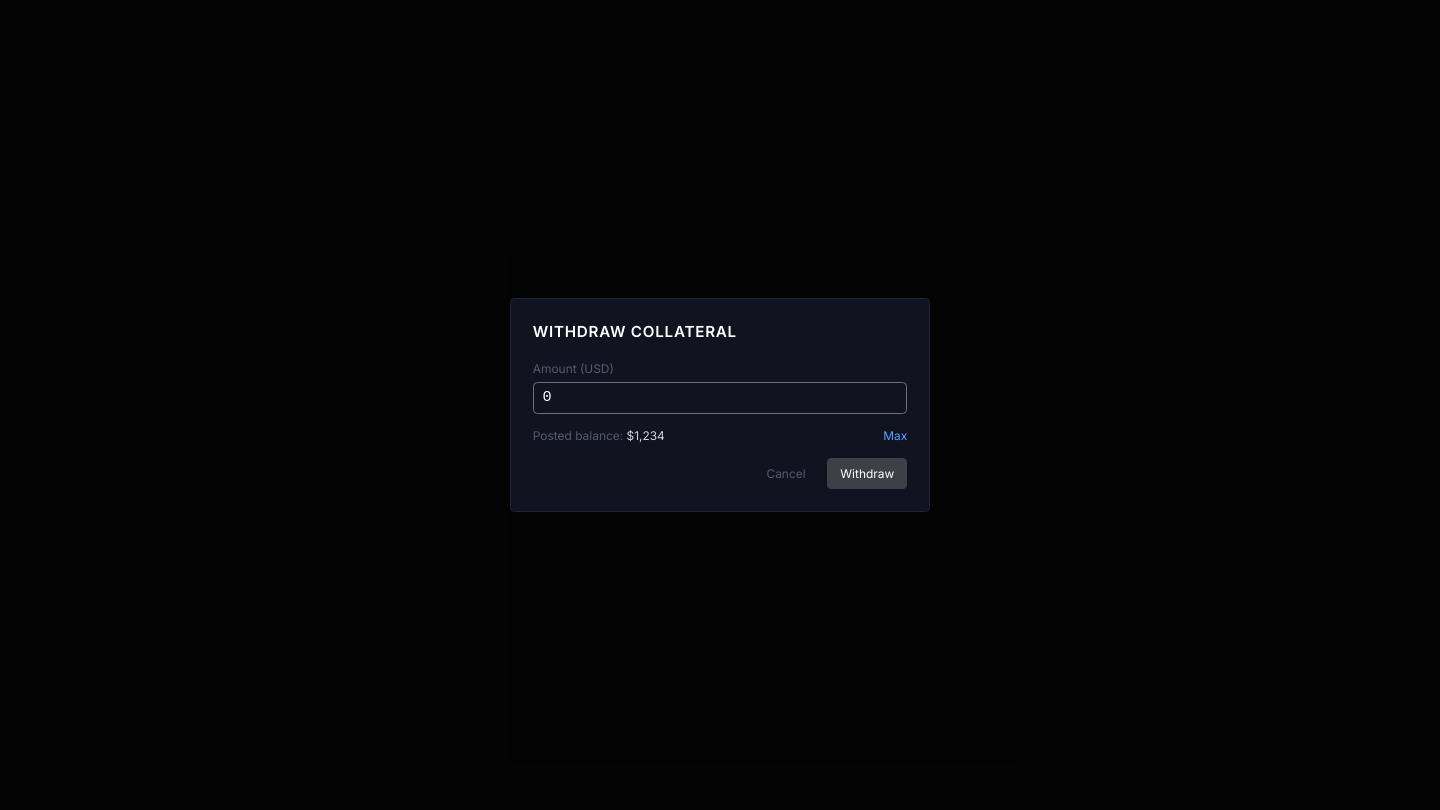
Test: CsaAmountModal — submit + validation › Max button in withdraw mode populates the amount input
The width and height of the screenshot is (1440, 810).
Click the button "Max" at coordinates (895, 436), box [883,427,907,445]
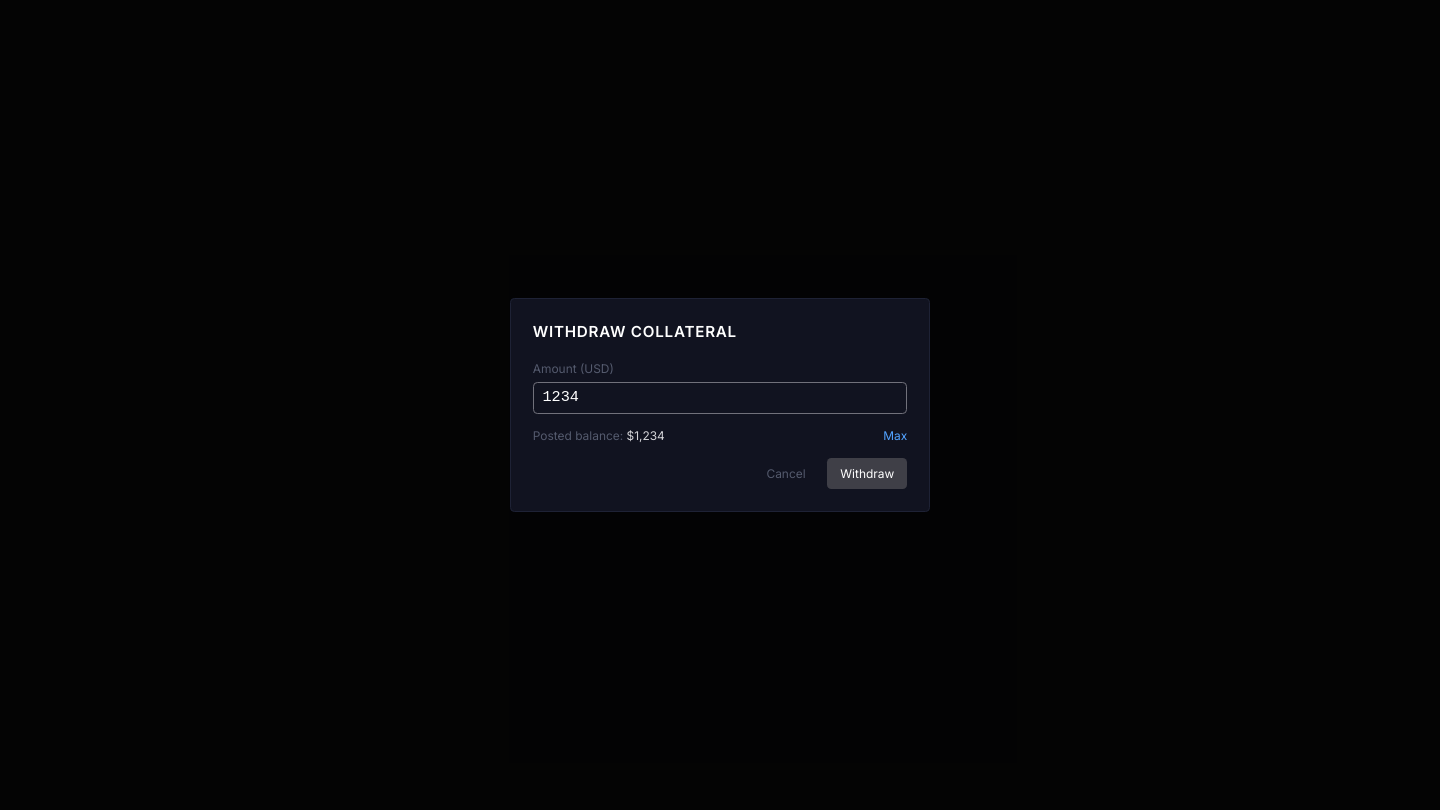
Now the field labelled "Amount (USD)" holds "1234", box [533,382,907,414]
